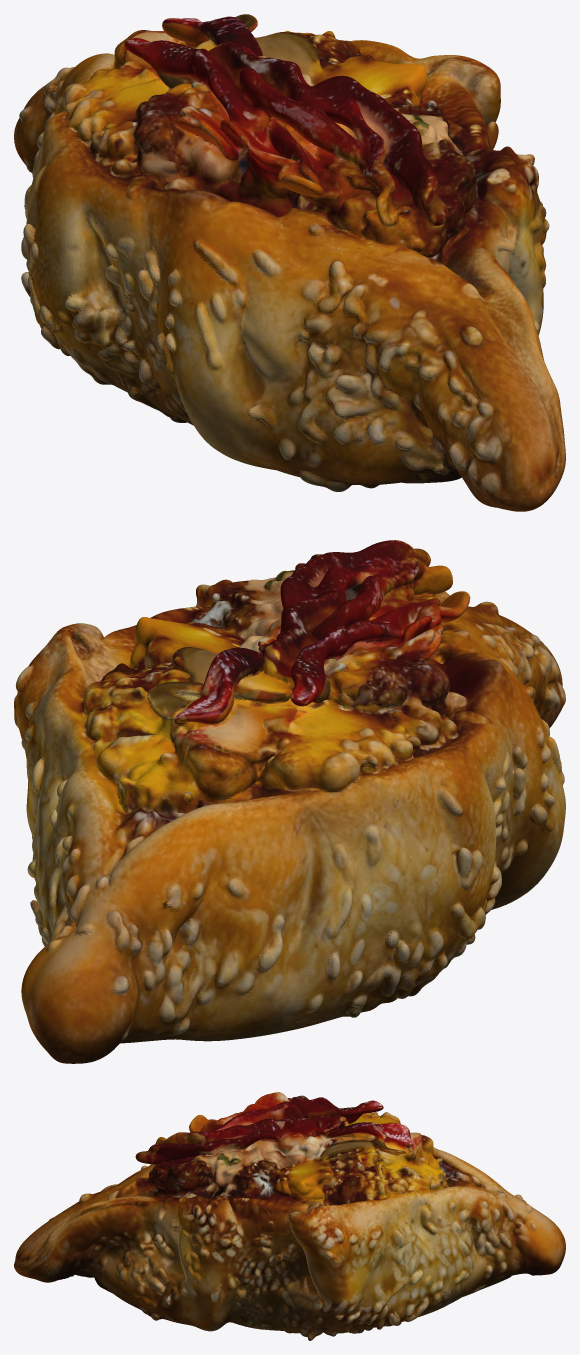
Rendered from big-burger-3D.glb.
3 renders of one model, top to bottom at view 1: azimuth 30°, elevation 25°; view 2: azimuth 150°, elevation 25°; view 3: azimuth 270°, elevation 25°, orthographic. The views are drawn at different scales.
Visible parts, largest first — view 1: tripo_node_6c57e3a0-aa6e-46a8-a85f-17973dce4658; view 2: tripo_node_6c57e3a0-aa6e-46a8-a85f-17973dce4658; view 3: tripo_node_6c57e3a0-aa6e-46a8-a85f-17973dce4658.
Boxes of the visible parts, bbox=[...] form: tripo_node_6c57e3a0-aa6e-46a8-a85f-17973dce4658: bbox=[14, 14, 565, 511]; tripo_node_6c57e3a0-aa6e-46a8-a85f-17973dce4658: bbox=[14, 540, 565, 1063]; tripo_node_6c57e3a0-aa6e-46a8-a85f-17973dce4658: bbox=[14, 1092, 565, 1340].
Size of the model in its own units: 0.5404 by 0.4109 by 1.
1 material, 1 textured.
